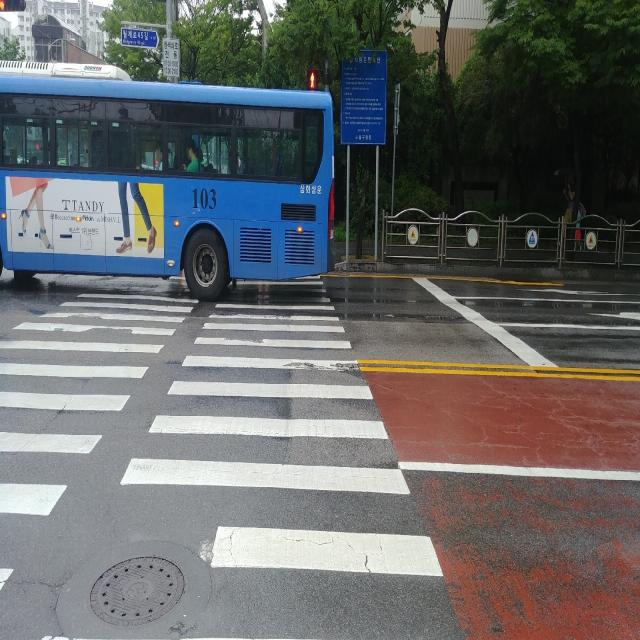횡단보도: (0, 276, 444, 640)
